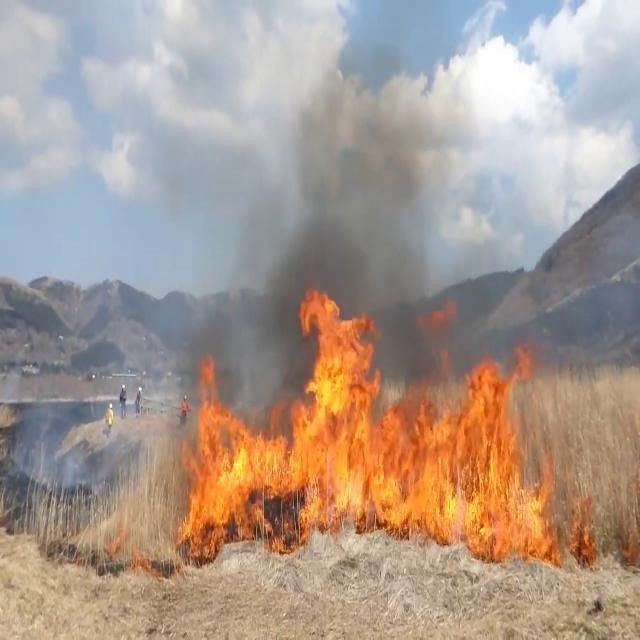Fire: (174, 280, 556, 554)
Smoke: (168, 80, 454, 378)
